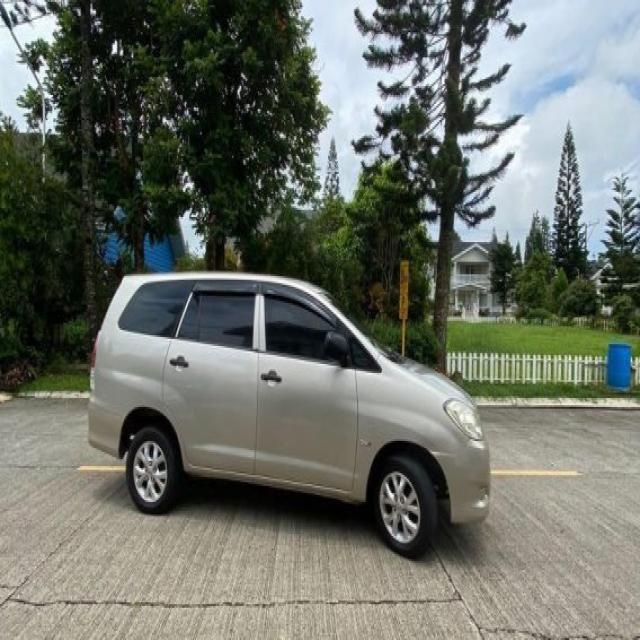light_vehicle: (87, 271, 491, 559)
